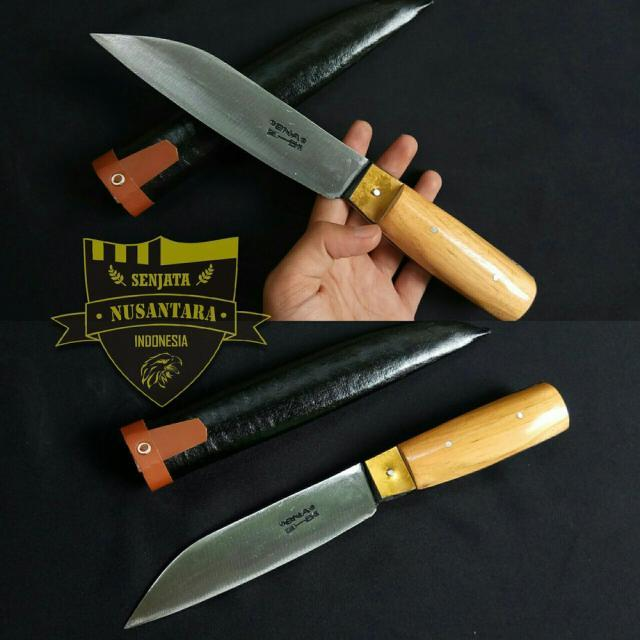Pisau: (71, 14, 544, 343)
